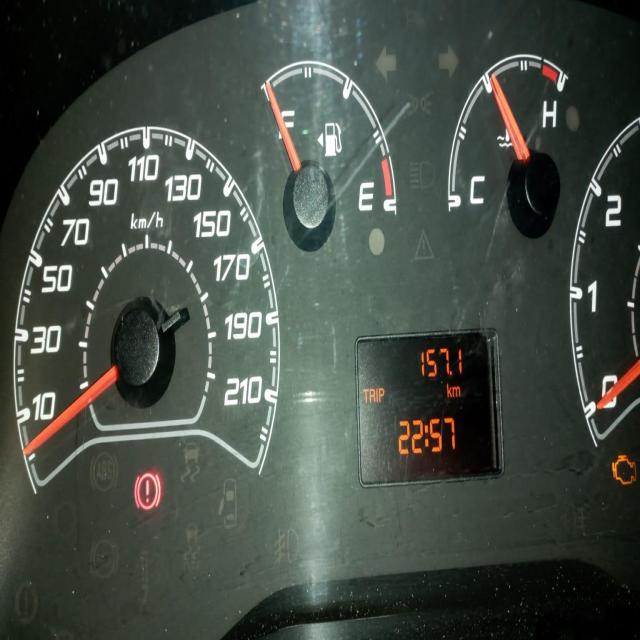odometer: (353, 325, 505, 489)
